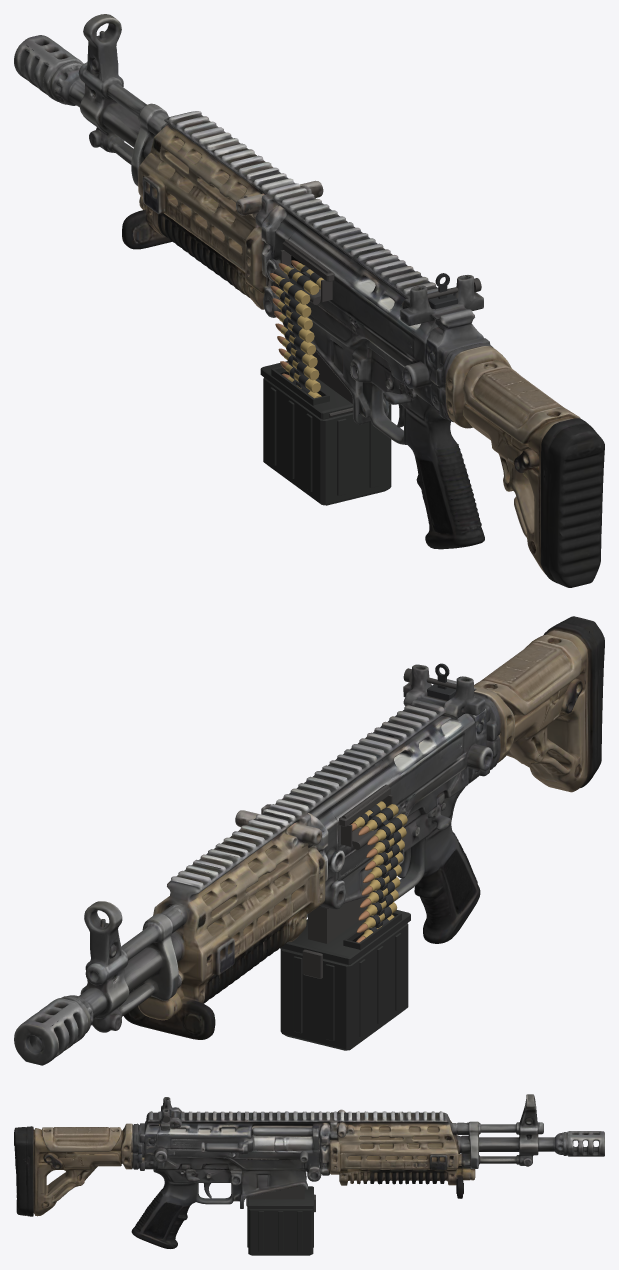
3 renders of one model, top to bottom at view 1: azimuth 30°, elevation 25°; view 2: azimuth 150°, elevation 25°; view 3: azimuth 270°, elevation 25°, orthographic. The views are drawn at different scales.
Visible parts, largest first — view 1: Body, Magazine, Feed, Sights; view 2: Body, Magazine, Feed, Sights; view 3: Body, Magazine.
Part boxes in pixels (<box>): Body: <box>14,14,604,587</box>; Magazine: <box>260,260,391,505</box>; Feed: <box>273,239,334,305</box>; Sights: <box>427,273,481,309</box>; Body: <box>14,616,604,1065</box>; Magazine: <box>280,801,410,1050</box>; Feed: <box>339,784,397,849</box>; Sights: <box>403,663,456,700</box>; Body: <box>14,1094,604,1248</box>; Magazine: <box>246,1186,315,1255</box>.
Size of the model in its own units: 0.0994 by 0.2563 by 0.89.
7 materials, 1 textured.
